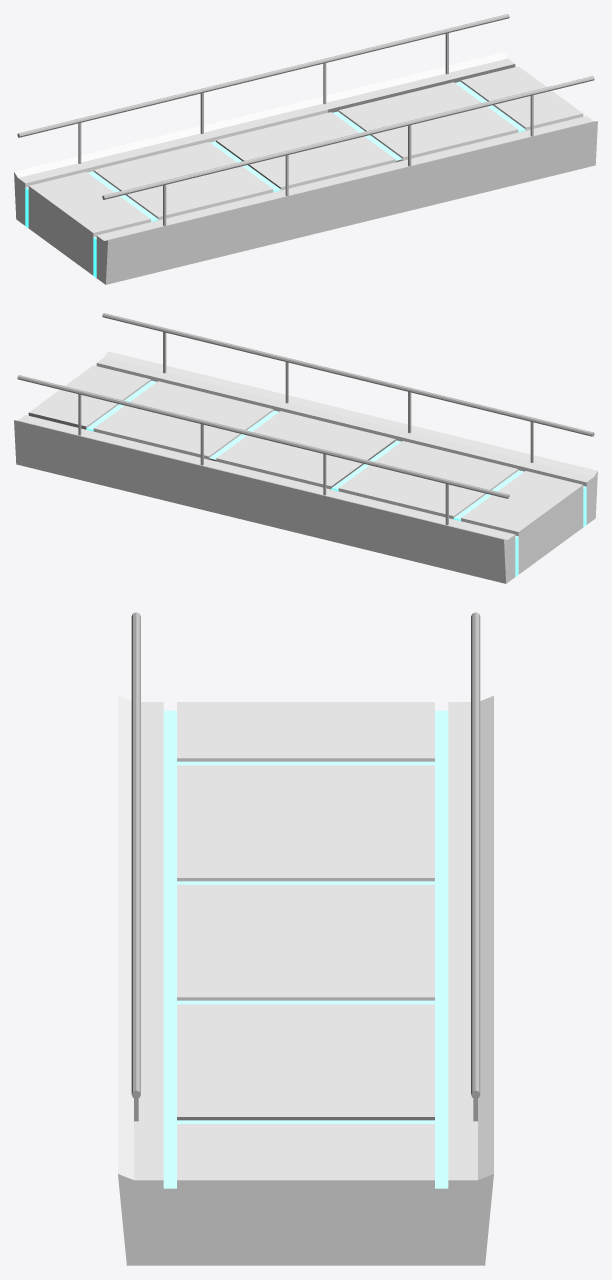
File: Bridge 2.fbx
The picture shows the model from 3 angles, top to bottom: view 1: azimuth 30°, elevation 25°; view 2: azimuth 150°, elevation 25°; view 3: azimuth 270°, elevation 25°; orthographic projection. The views are drawn at different scales.
Visible parts, largest first — view 1: Cube.029; view 2: Cube.029; view 3: Cube.029.
Part boxes in pixels (x1,y1,x2,y2): Cube.029: [14, 14, 597, 284]; Cube.029: [14, 313, 597, 583]; Cube.029: [118, 612, 493, 1265].
Bounding box in the file's own units: 1200 × 205 × 399.
